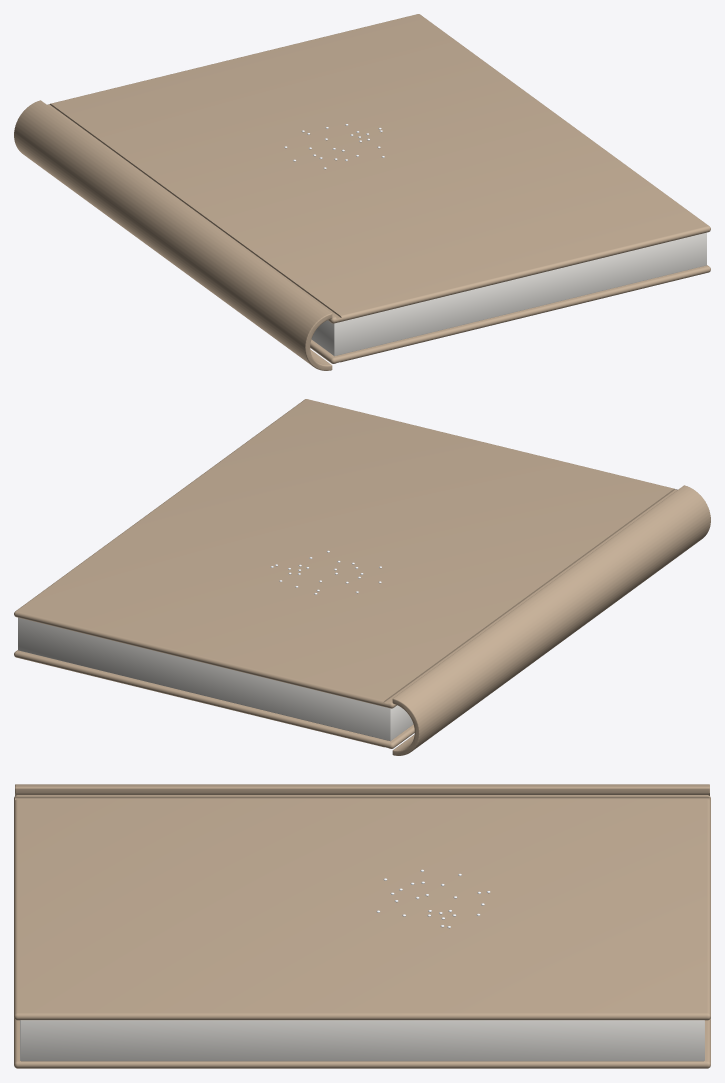
File: swarovski-cluster--portrait.glb
3 renders of one model, top to bottom at view 1: azimuth 30°, elevation 25°; view 2: azimuth 150°, elevation 25°; view 3: azimuth 270°, elevation 25°, orthographic. The views are drawn at different scales.
Parts seen in each view (by area): view 1: CoverFront, Spine, Pages, CoverBack; view 2: CoverFront, Spine, Pages, CoverBack; view 3: CoverFront, Pages, Spine, CoverBack.
Part boxes in pixels (bbox=[...]): CoverFront: bbox=[47, 14, 710, 323]; Spine: bbox=[14, 100, 332, 370]; Pages: bbox=[311, 232, 706, 356]; CoverBack: bbox=[310, 265, 710, 363]; CoverFront: bbox=[14, 399, 677, 708]; Spine: bbox=[392, 485, 710, 755]; Pages: bbox=[18, 617, 413, 741]; CoverBack: bbox=[14, 650, 414, 748]; CoverFront: bbox=[14, 795, 710, 1020]; Pages: bbox=[20, 1020, 704, 1061]; Spine: bbox=[15, 784, 709, 795]; CoverBack: bbox=[14, 1018, 710, 1068].
Size of the model in its own units: 0.3208 by 0.043 by 0.4.
